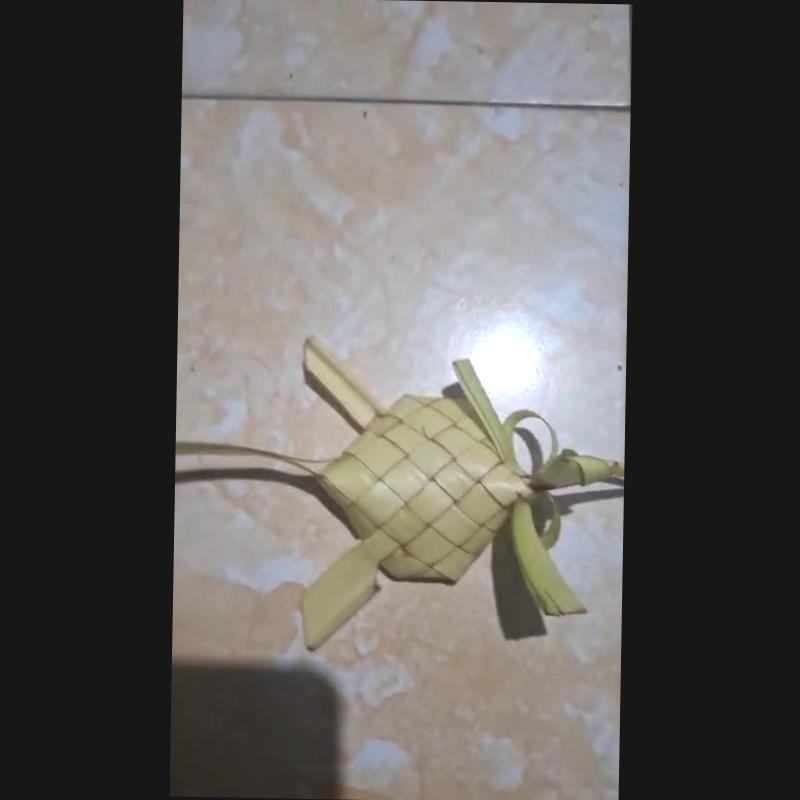Tipat Dampulan: (174, 335, 623, 654)
